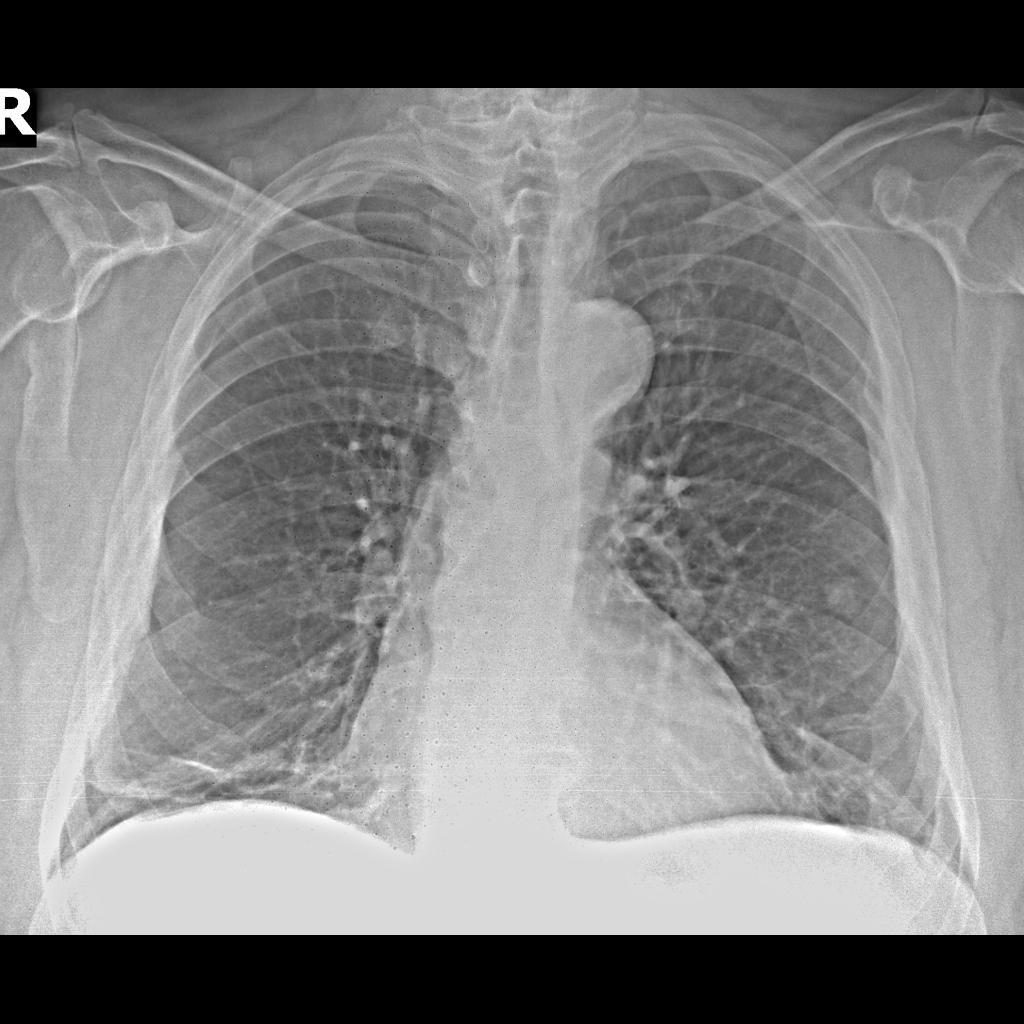Nodule: (819, 567, 864, 623)
